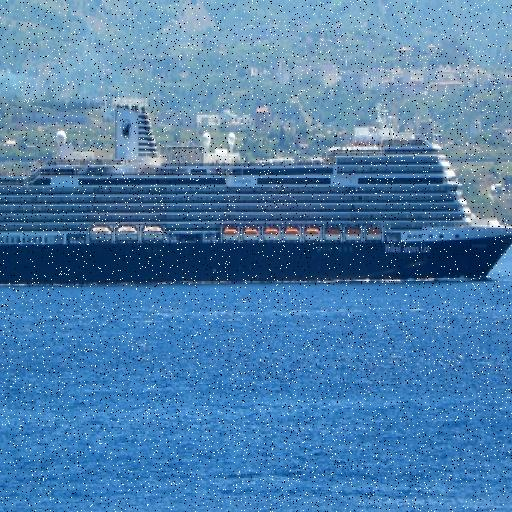cruises: (1, 101, 512, 301)
